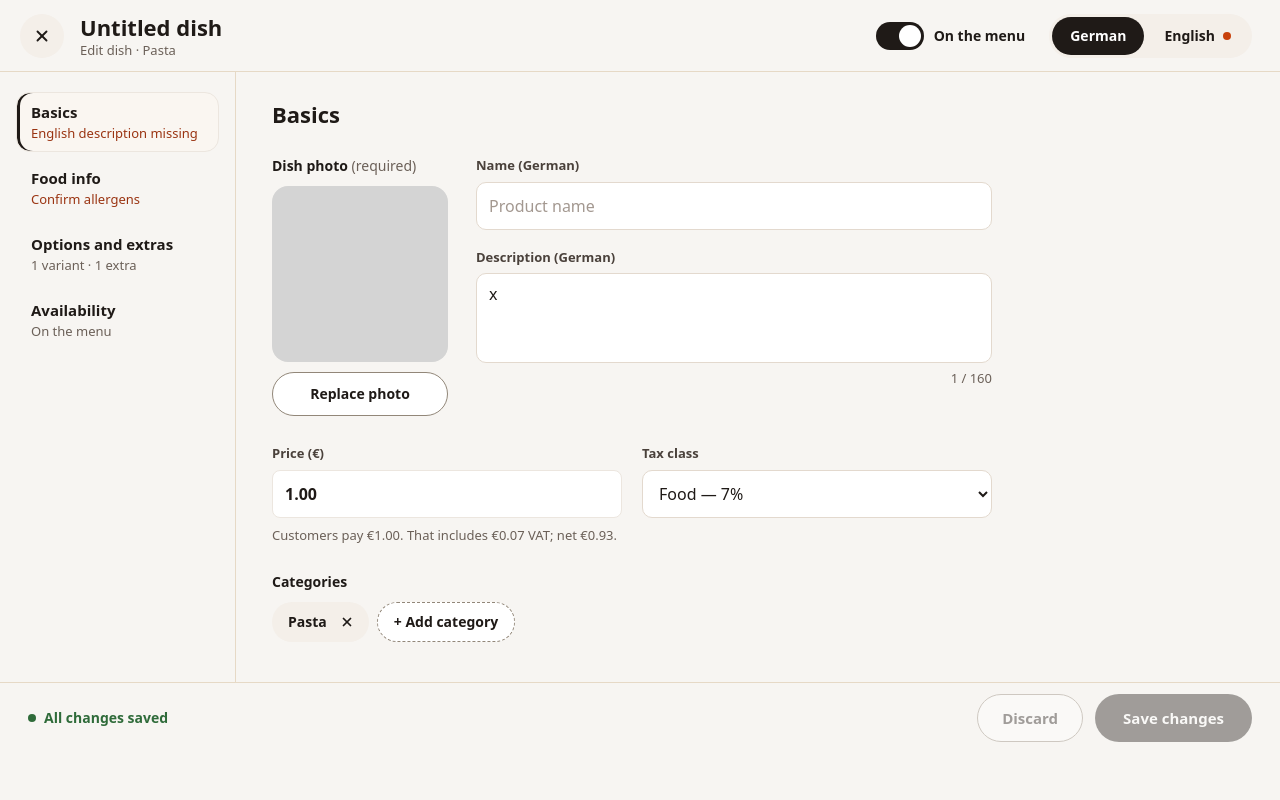
DishForm footer › does not call onSave while the basics are invalid, and shows why
Replace the text in the text box labelled "Description (German)" with "changed" at (734,318), box 476,273 -> 992,363
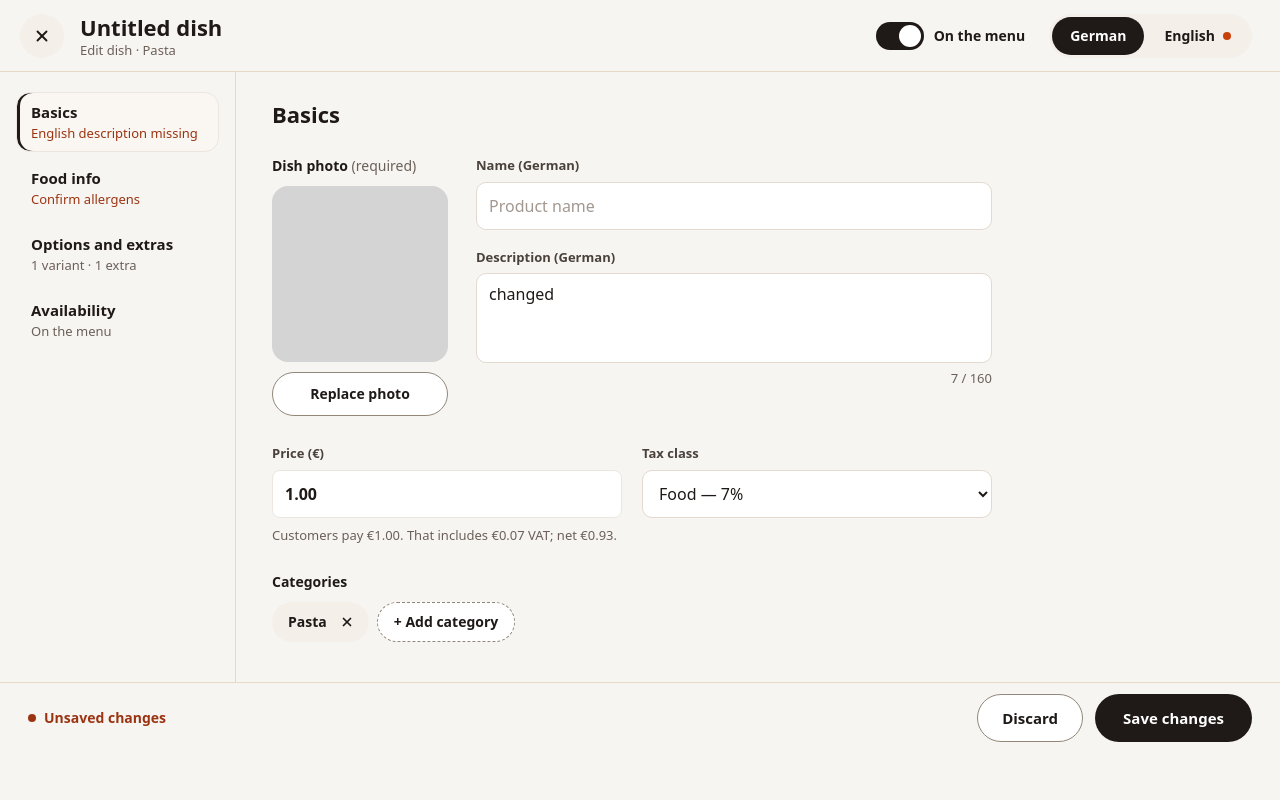
Click the button "Save changes".
click(1174, 718)  # box 1095,694 -> 1252,742
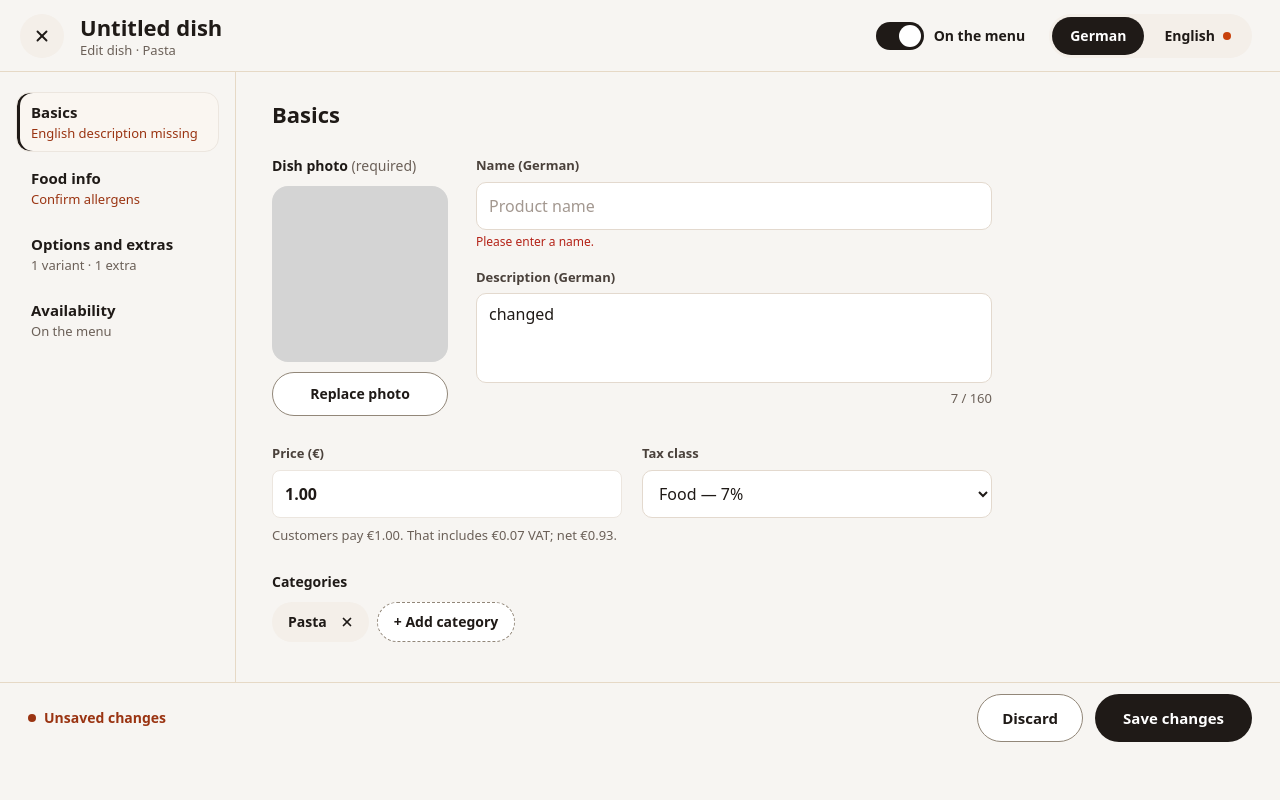
Now the text "Please enter a name." is shown, box 476,232 -> 594,250
